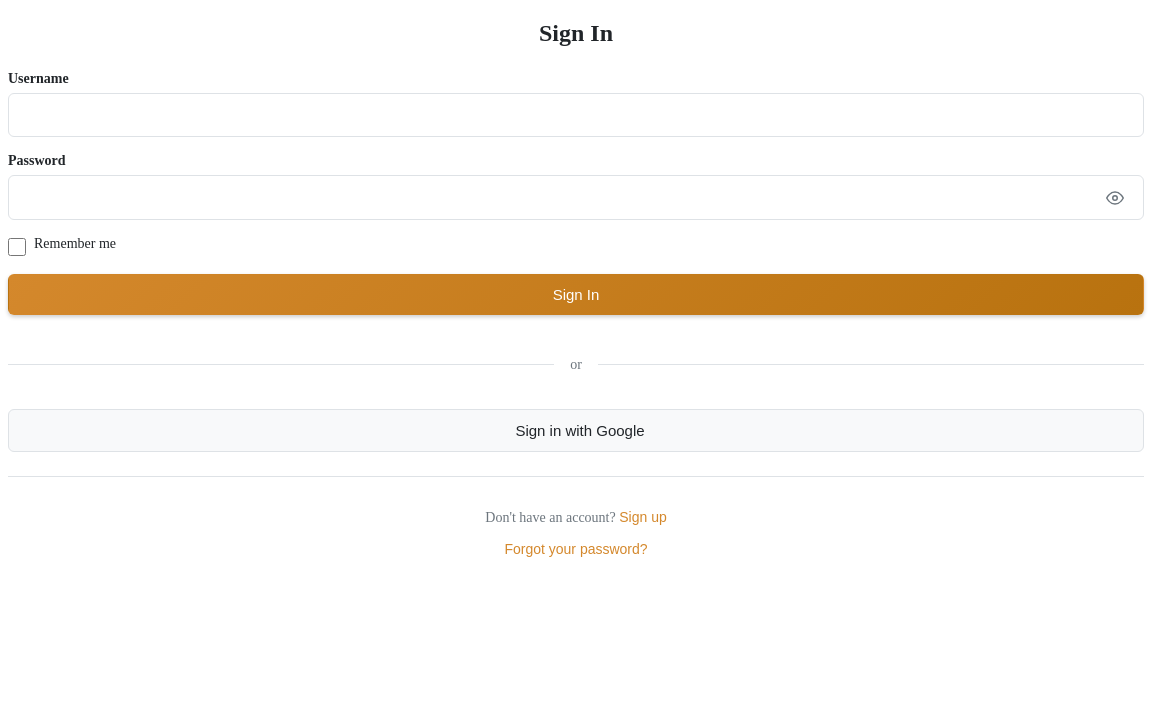
Test: AuthenticationComponent OAuth › requests the authorization URL for the clicked provider
Step 1. Click the button "Sign in with Google" → click(576, 430), box [8,409,1144,452]
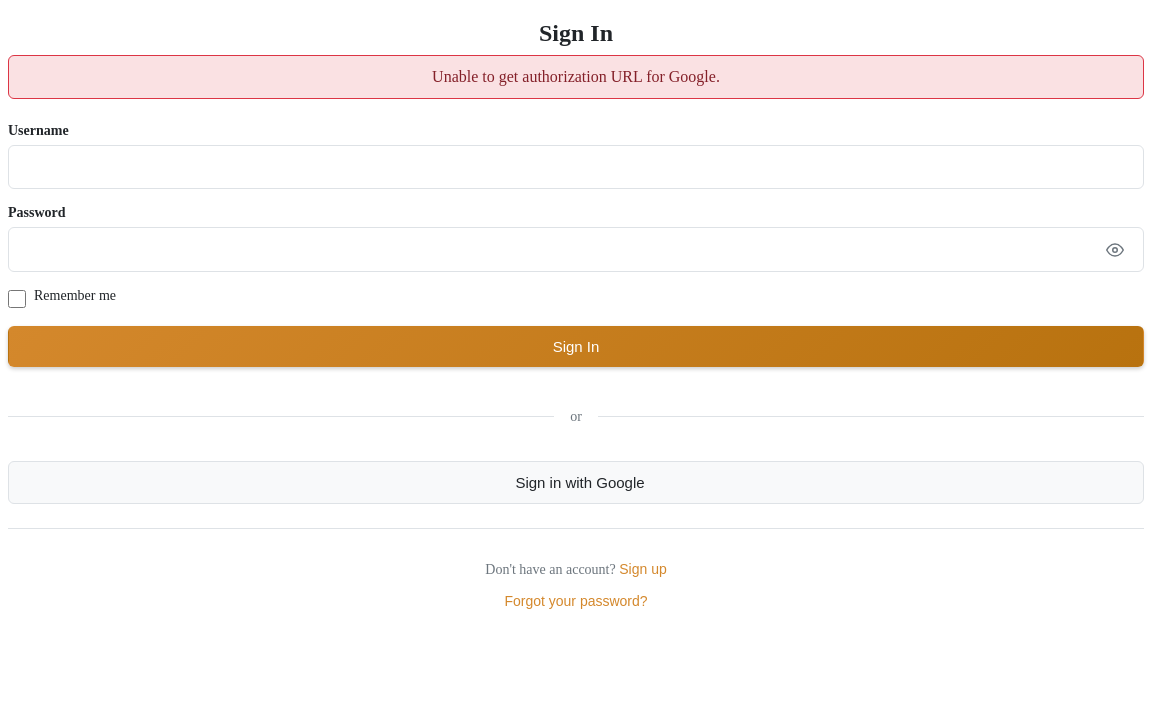
Now the text "Unable to get authorization URL for Google." is shown, box [8,55,1144,99]
